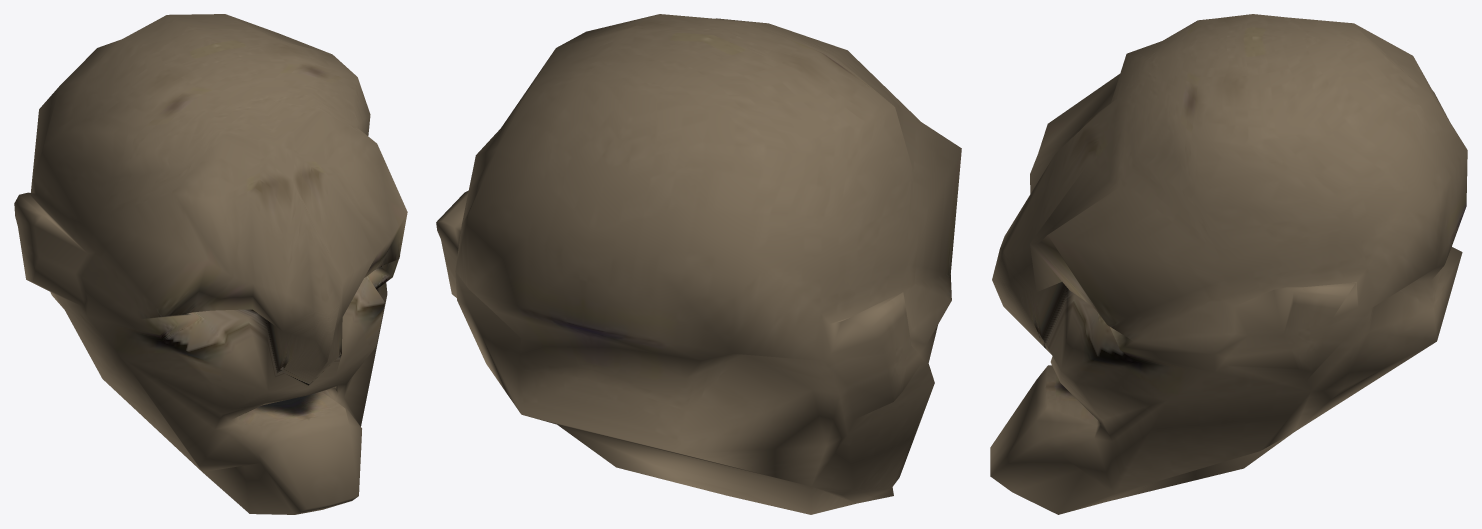
The model's file is ogregib1.glb.
3 renders of one model, left to right at view 1: azimuth 30°, elevation 25°; view 2: azimuth 150°, elevation 25°; view 3: azimuth 270°, elevation 25°, orthographic. The views are drawn at different scales.
Visible parts, largest first — view 1: Cube.002; view 2: Cube.002; view 3: Cube.002.
Part boxes in pixels (bbox=[...]): Cube.002: bbox=[14, 14, 407, 514]; Cube.002: bbox=[436, 14, 961, 514]; Cube.002: bbox=[990, 14, 1467, 514].
Bounding box in the file's own units: 0.2383 × 0.2691 × 0.2601.
1 material, 1 textured.
